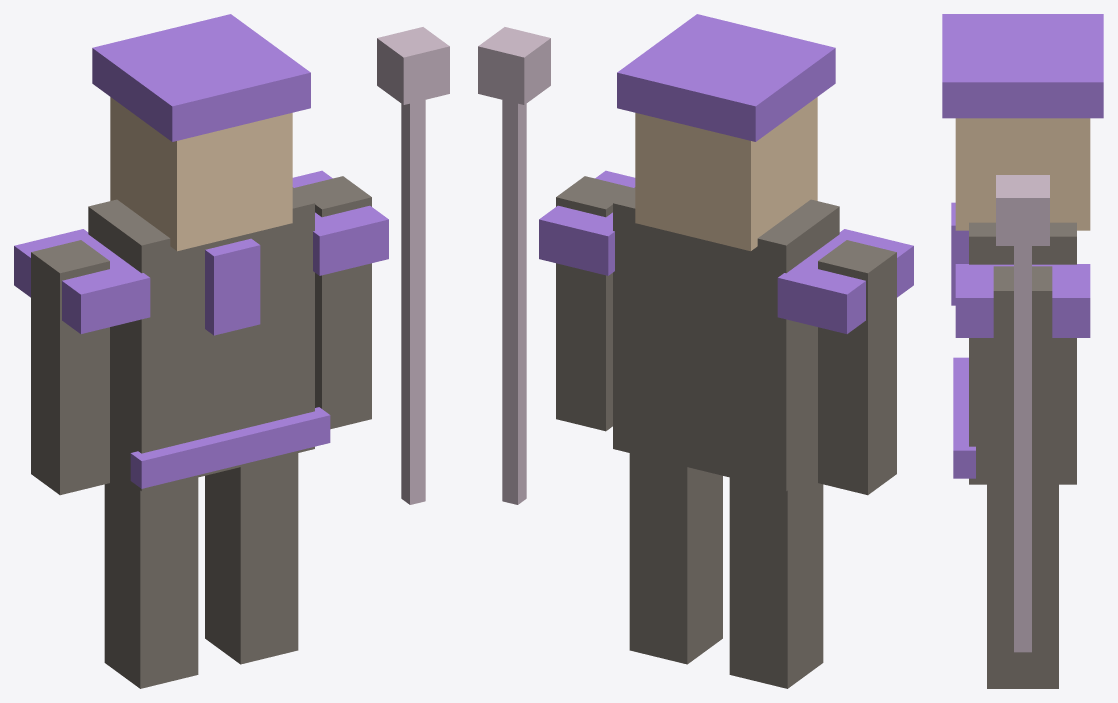
The model's file is 13_keir_voidrill_pilgrim_near_verse.glb.
The picture shows the model from 3 angles, left to right: view 1: azimuth 30°, elevation 25°; view 2: azimuth 150°, elevation 25°; view 3: azimuth 270°, elevation 25°; orthographic projection.
Parts seen in each view (by area): view 1: Keir Voidrill, Pilgrim near Verse; view 2: Keir Voidrill, Pilgrim near Verse; view 3: Keir Voidrill, Pilgrim near Verse.
Part boxes in pixels (x1,y1,x2,y2): Keir Voidrill, Pilgrim near Verse: (14, 14, 449, 688); Keir Voidrill, Pilgrim near Verse: (478, 14, 913, 688); Keir Voidrill, Pilgrim near Verse: (942, 14, 1103, 688).
Bounding box in the file's own units: 1.12 × 1.63 × 0.3956.
